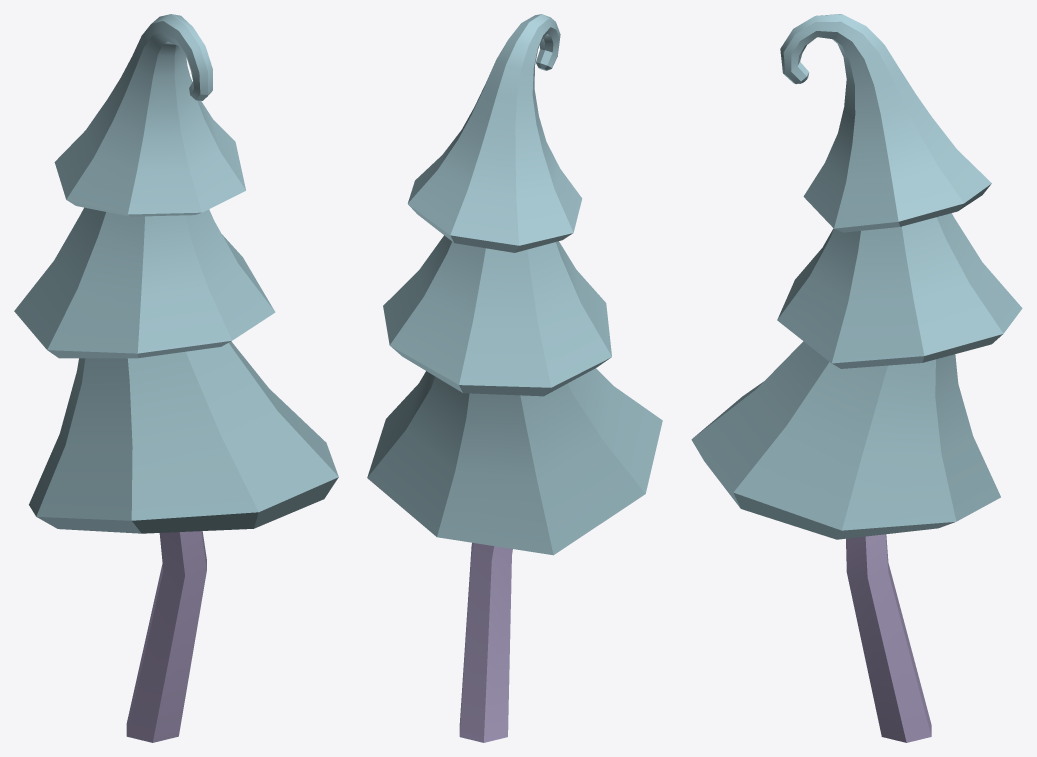
The model's file is Trees_Mystic_04.fbx.
3 views of the same model, side by side, from view 1: azimuth 30°, elevation 25°; view 2: azimuth 150°, elevation 25°; view 3: azimuth 270°, elevation 25° (orthographic). The views are drawn at different scales.
Visible parts, largest first — view 1: Namu; view 2: Namu; view 3: Namu.
Boxes of the visible parts, x1,y1,x2,y2 form: Namu: (14,14,338,742); Namu: (367,14,662,742); Namu: (691,14,1022,742).
Bounding box in the file's own units: 405 × 1010 × 427.
